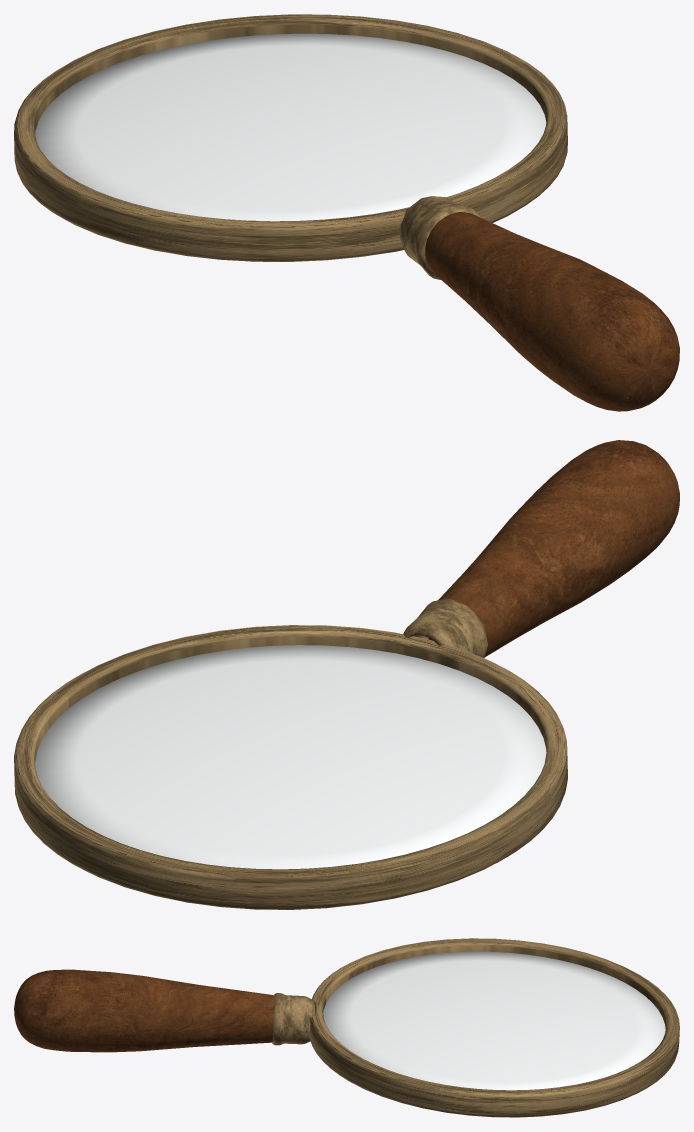
File: magnifier.glb
The picture shows the model from 3 angles, top to bottom: view 1: azimuth 30°, elevation 25°; view 2: azimuth 150°, elevation 25°; view 3: azimuth 270°, elevation 25°; orthographic projection. The views are drawn at different scales.
Visible parts, largest first — view 1: 04 | Solid biconvex glass lens, 01 | Solid brass lens rim, 06 | Short rounded walnut handle, 05 | Turned brass handle socket, 02 | Subtle upper rim bead; view 2: 04 | Solid biconvex glass lens, 01 | Solid brass lens rim, 06 | Short rounded walnut handle, 05 | Turned brass handle socket, 02 | Subtle upper rim bead; view 3: 04 | Solid biconvex glass lens, 06 | Short rounded walnut handle, 01 | Solid brass lens rim, 05 | Turned brass handle socket, 02 | Subtle upper rim bead.
Boxes of the visible parts, x1,y1,x2,y2 form: 04 | Solid biconvex glass lens: [35, 33, 546, 221]; 01 | Solid brass lens rim: [14, 15, 567, 261]; 06 | Short rounded walnut handle: [425, 212, 679, 411]; 05 | Turned brass handle socket: [399, 196, 480, 279]; 02 | Subtle upper rim bead: [16, 14, 564, 227]; 04 | Solid biconvex glass lens: [35, 645, 546, 869]; 01 | Solid brass lens rim: [14, 625, 567, 909]; 06 | Short rounded walnut handle: [428, 440, 679, 656]; 05 | Turned brass handle socket: [403, 598, 487, 657]; 02 | Subtle upper rim bead: [16, 625, 564, 876]; 04 | Solid biconvex glass lens: [323, 951, 665, 1090]; 06 | Short rounded walnut handle: [14, 969, 274, 1052]; 01 | Solid brass lens rim: [309, 938, 679, 1117]; 05 | Turned brass handle socket: [272, 993, 315, 1045]; 02 | Subtle upper rim bead: [312, 938, 678, 1094].
Bounding box in the file's own units: 0.0865 × 0.0193 × 0.1552.
Materials: 3 (2 with a texture image).
